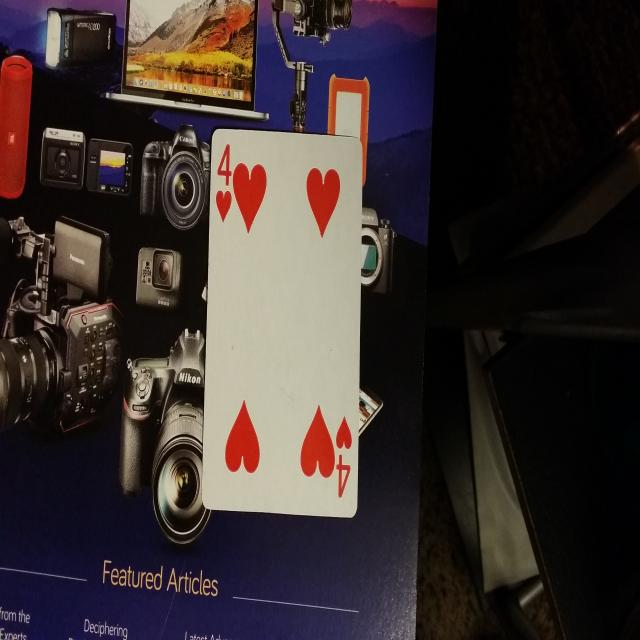4h: (327, 409, 356, 502), (213, 140, 236, 231)
